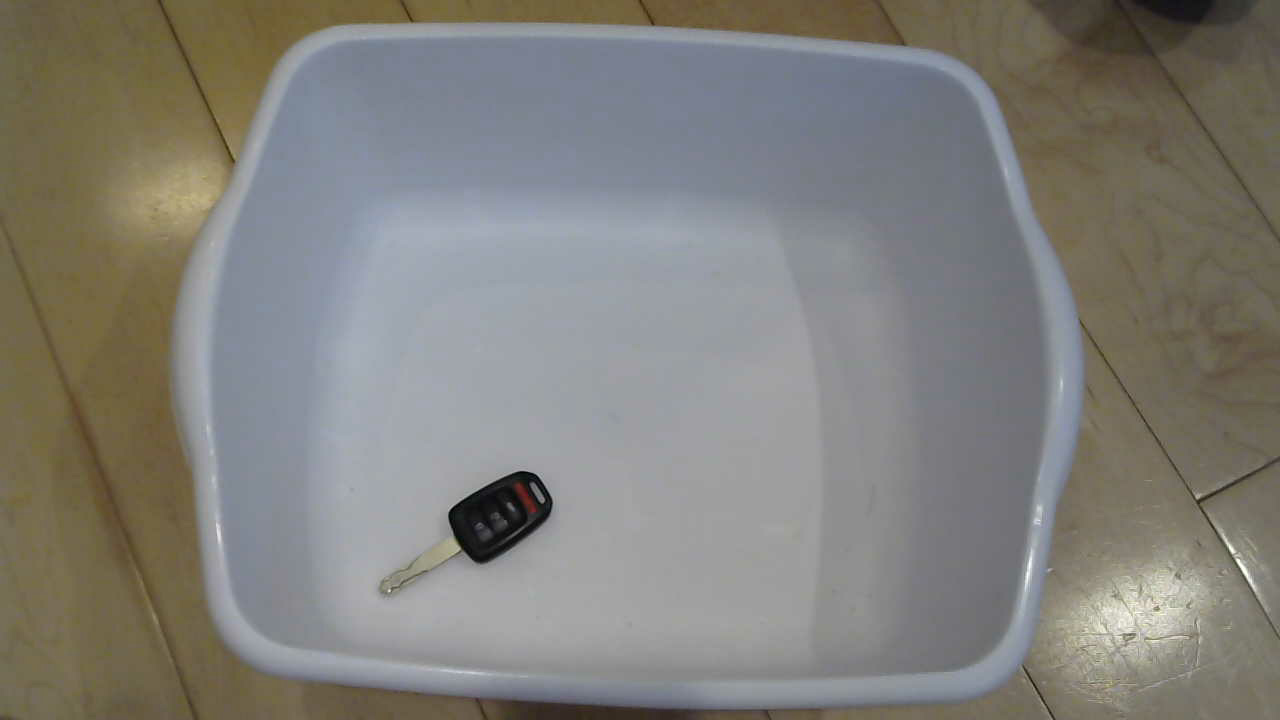key: (375, 460, 565, 606)
